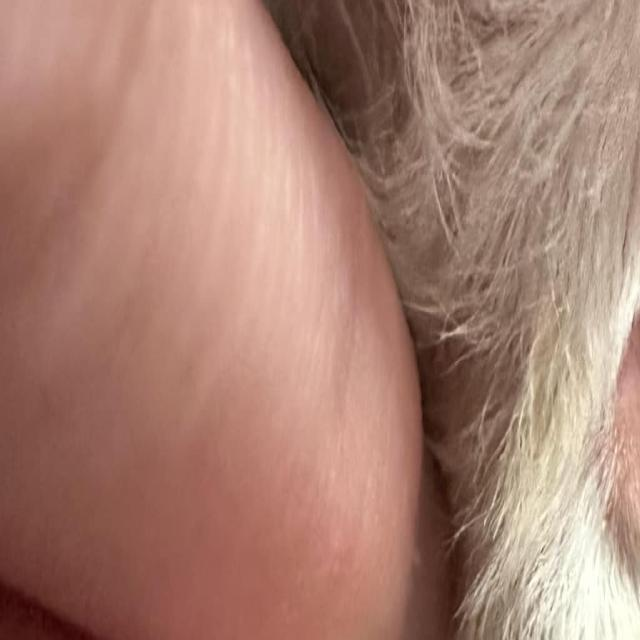fem: (602, 278, 640, 581)
